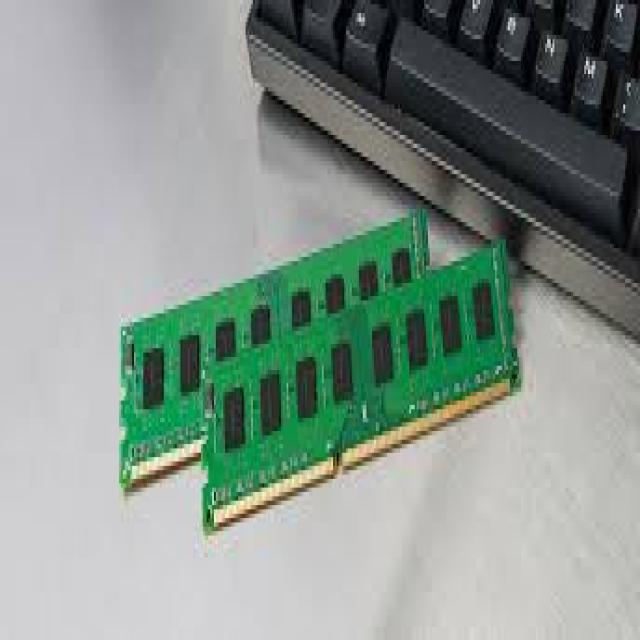Ram: (24, 24, 536, 570)
